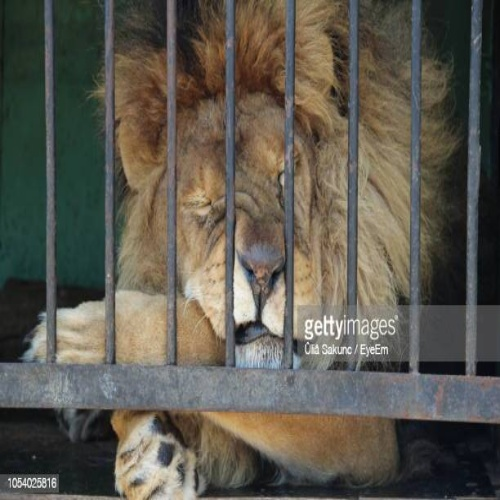lion: (23, 4, 460, 488)
